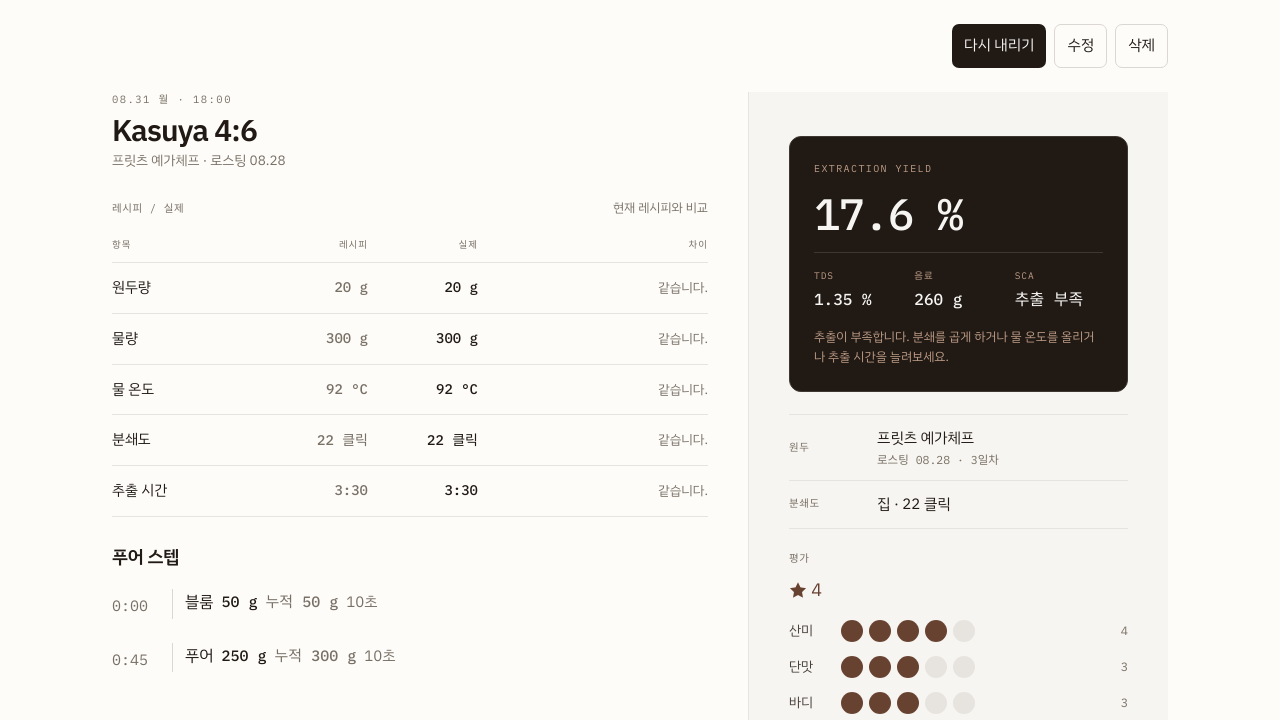
Scenario: BrewDetailPage › AC-WEBBREW-45 · 삭제를 취소하면 아무 요청도 나가지 않는다
What coordinates should you click on to do the following:
click the button "삭제"
I would click on:
 (1142, 46)
Its box is 1115,24 -> 1168,68.
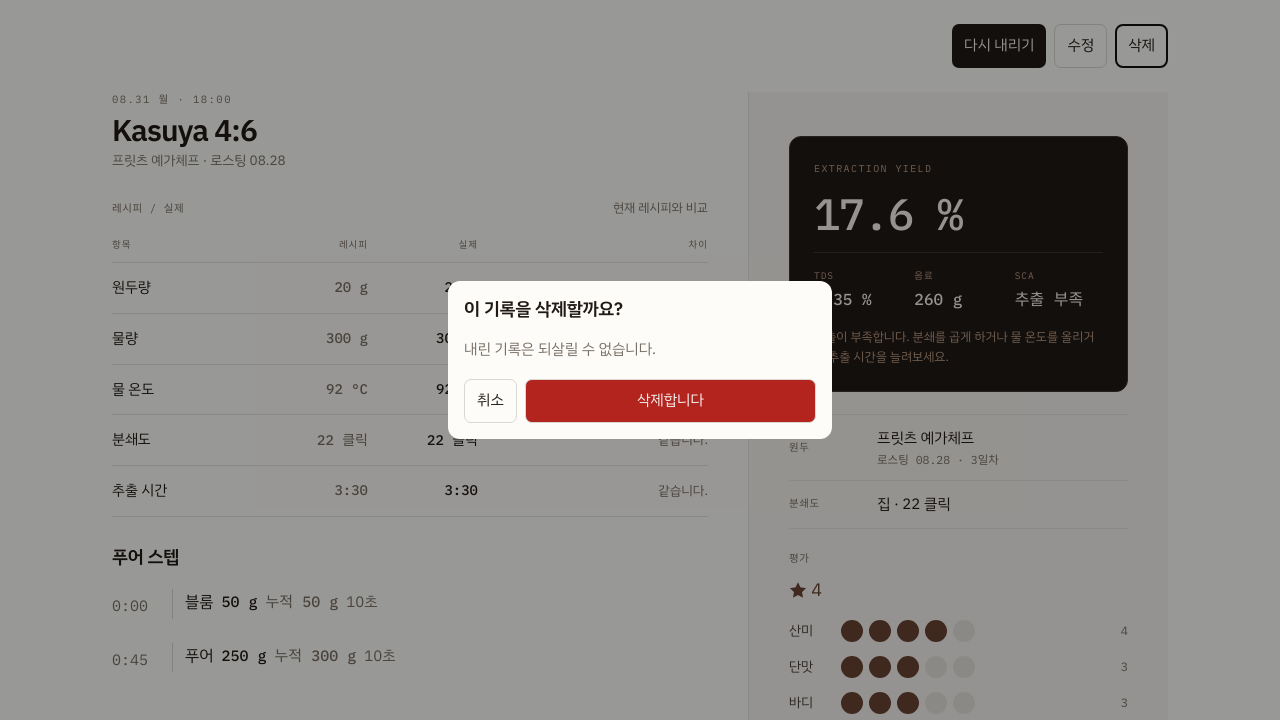
What coordinates should you click on to do the following:
click the button "취소"
I would click on:
 (490, 401)
Its box is 464,379 -> 517,423.
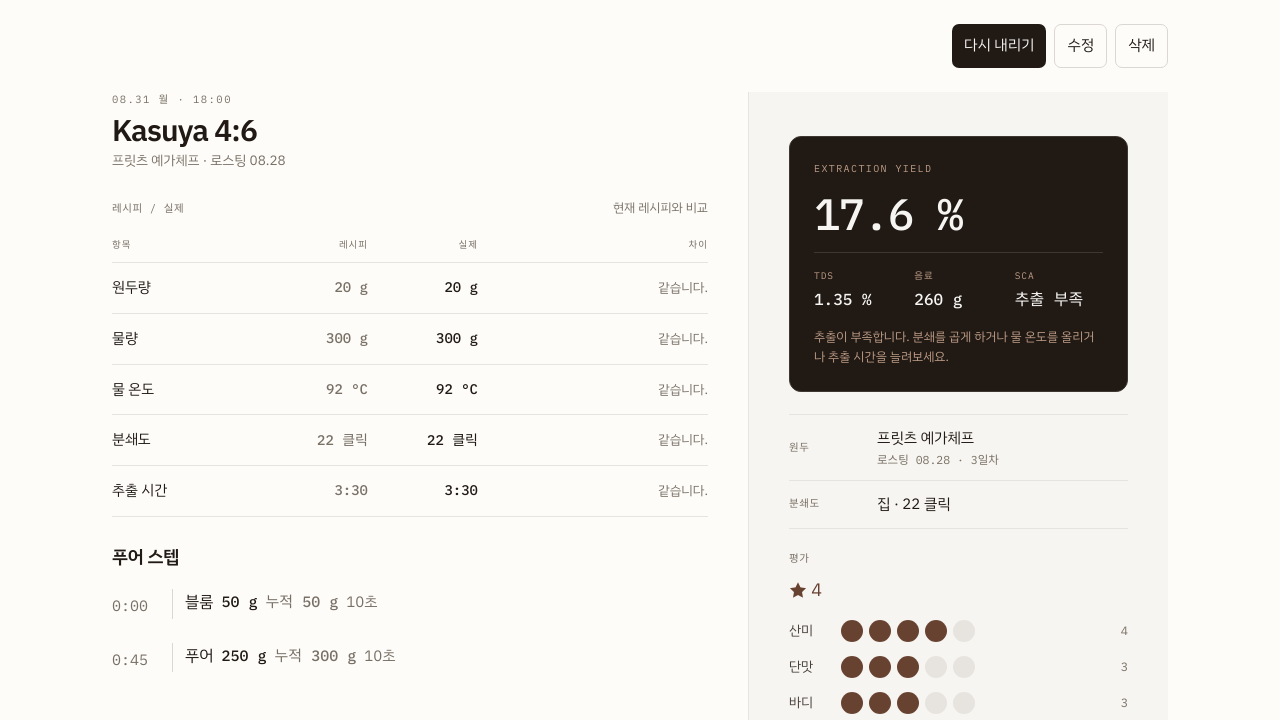
Now the button "삭제합니다" is gone
